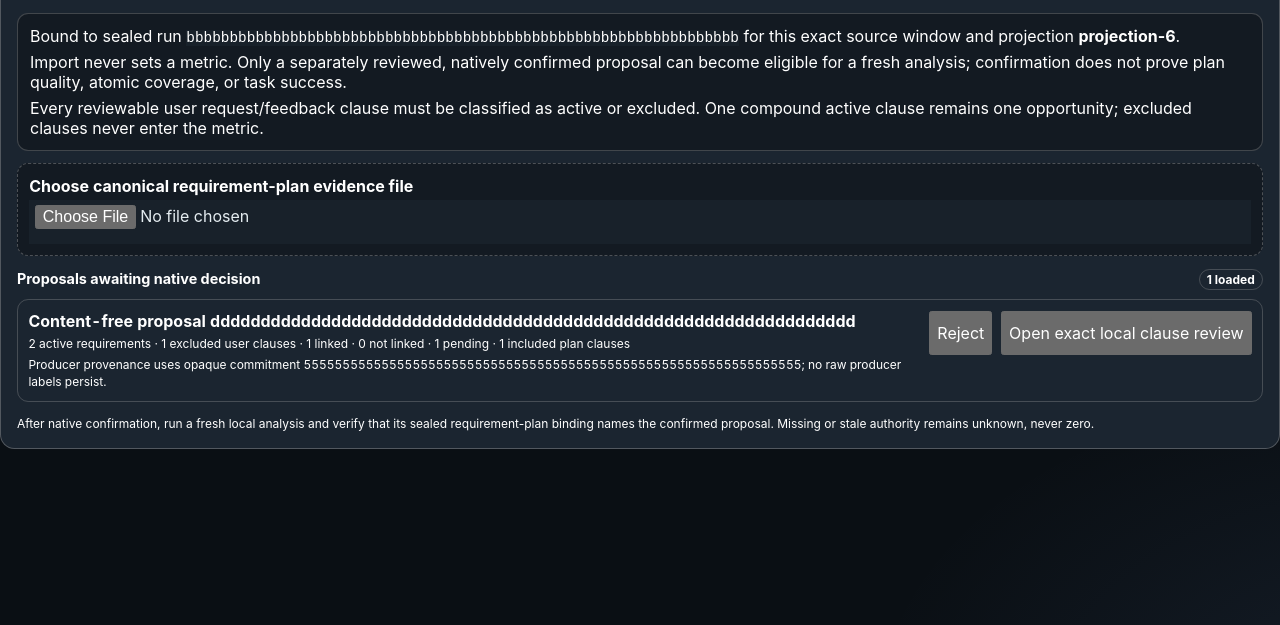
RequirementPlanEvidencePanel › renders long safe coordinates, opaque IDs, and escaped synthetic clause text exactly
The image size is (1280, 625).
Click the button "Open exact local clause review" at (1126, 332), box [1001, 310, 1252, 354]
(page scrolled)
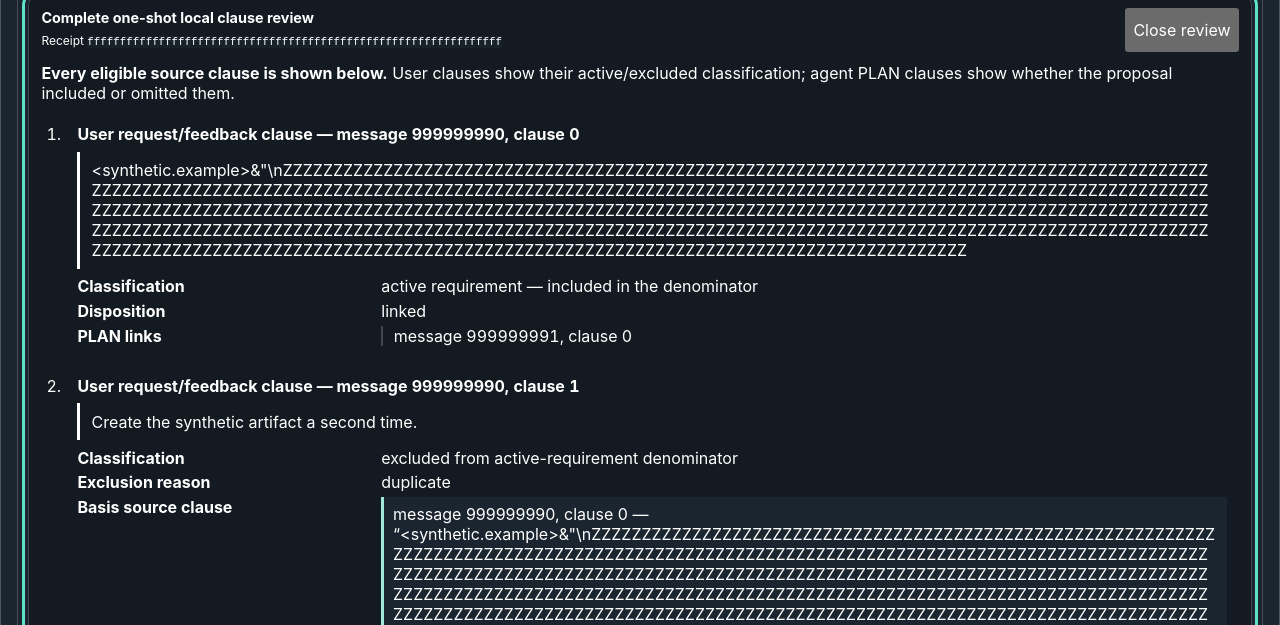
expect the text "message 999999990, clause 0" is shown: met, box [336, 124, 580, 144]
